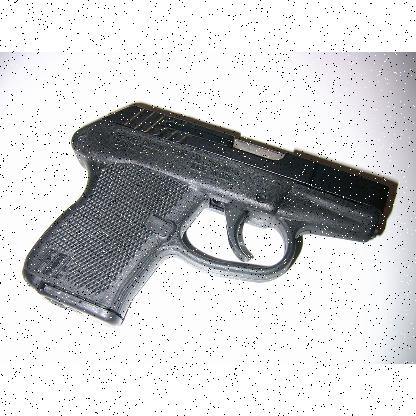gun: (22, 105, 388, 327)
